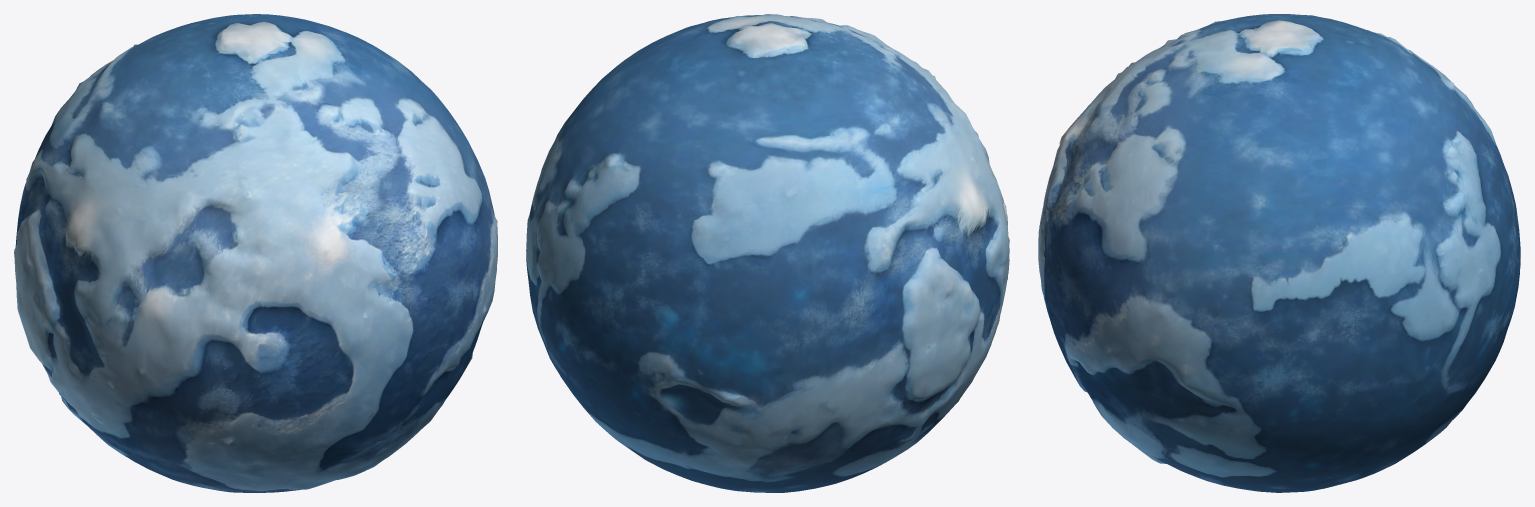
Rendered from ice_planet_4.glb.
3 renders of one model, left to right at view 1: azimuth 30°, elevation 25°; view 2: azimuth 150°, elevation 25°; view 3: azimuth 270°, elevation 25°, orthographic.
Visible parts, largest first — view 1: Mesh_0.029; view 2: Mesh_0.029; view 3: Mesh_0.029.
Part boxes in pixels (left/top/right/bottom): Mesh_0.029: left=14, top=14, right=497, bottom=492; Mesh_0.029: left=526, top=14, right=1009, bottom=492; Mesh_0.029: left=1038, top=14, right=1520, bottom=492.
Bounding box in the file's own units: 2 × 1.99 × 2.
1 material, 1 textured.
